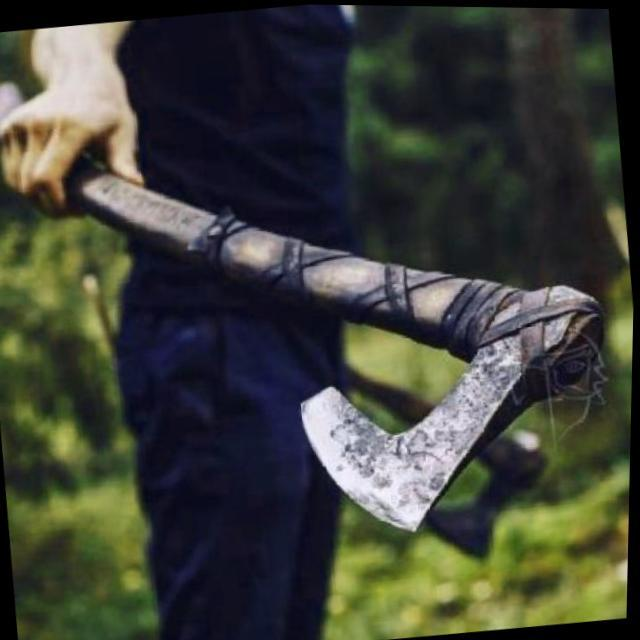weapon: (0, 14, 632, 576)
